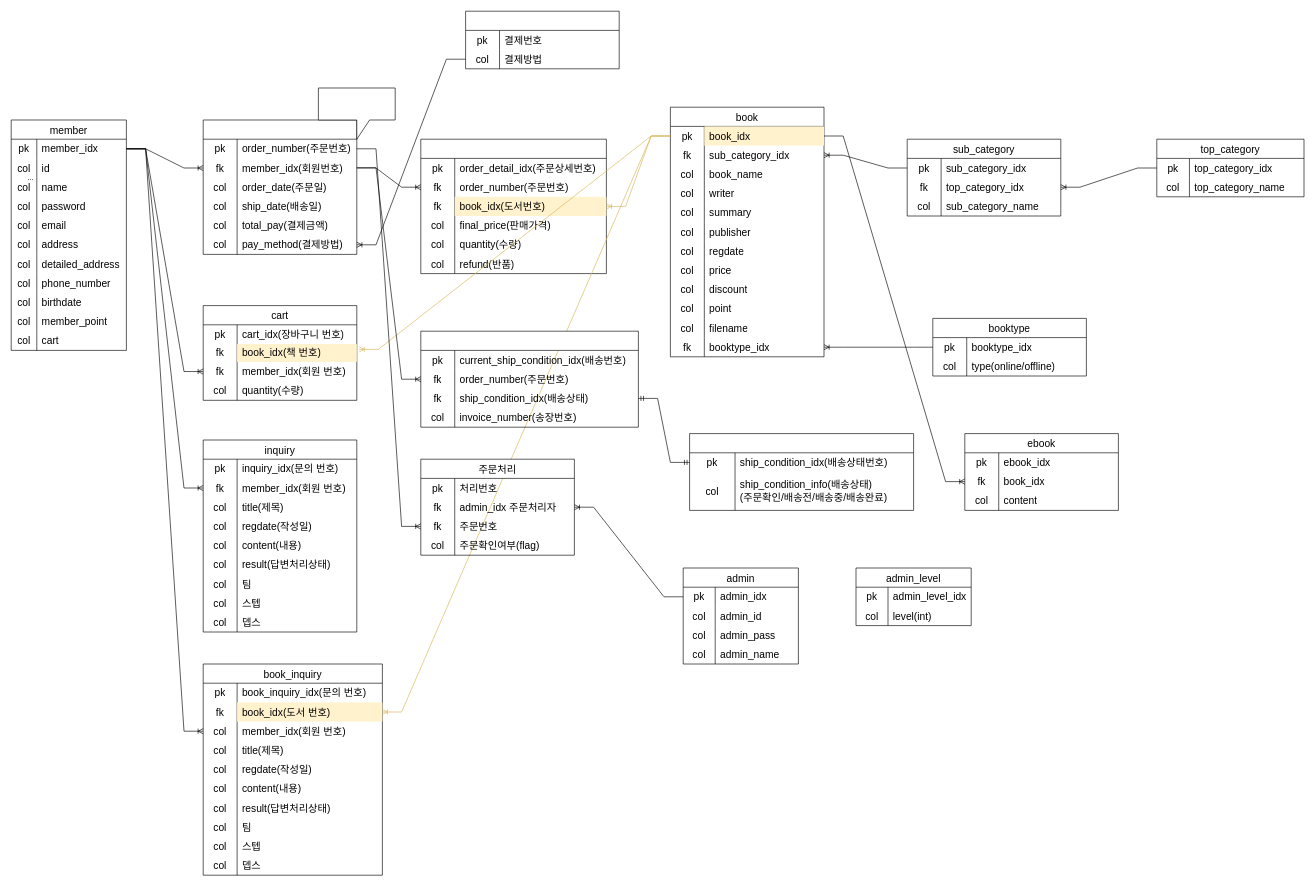
Some shapes in this 1315 by 886 pixel diagram are drawn without their labels. The box of each missing label's shape, as (x1, y1, x2, y2) in pixels:
Current_ship_condition(배송현황): (420, 331, 638, 427)
order_details: (420, 139, 606, 274)
orders: (203, 119, 357, 254)
pay_method: (465, 11, 619, 69)
Ship_condition(배송상태): (689, 433, 914, 510)
total price는 join으로 해결: (318, 87, 395, 139)
